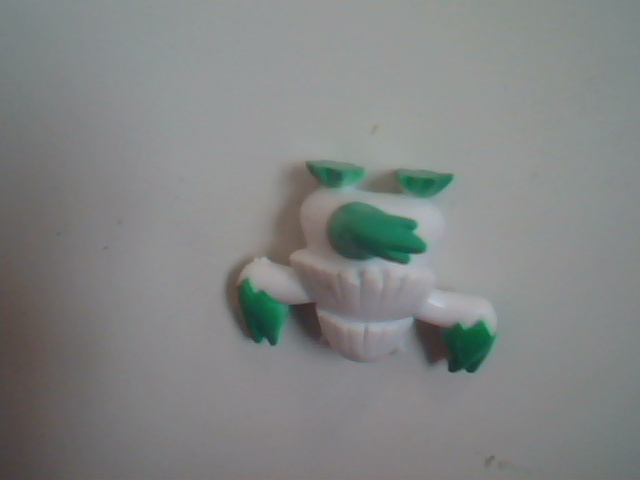abomasnow: (188, 87, 557, 425)
